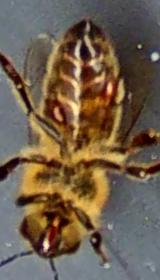varroa_mite: (96, 62, 130, 116), (41, 94, 74, 130)
